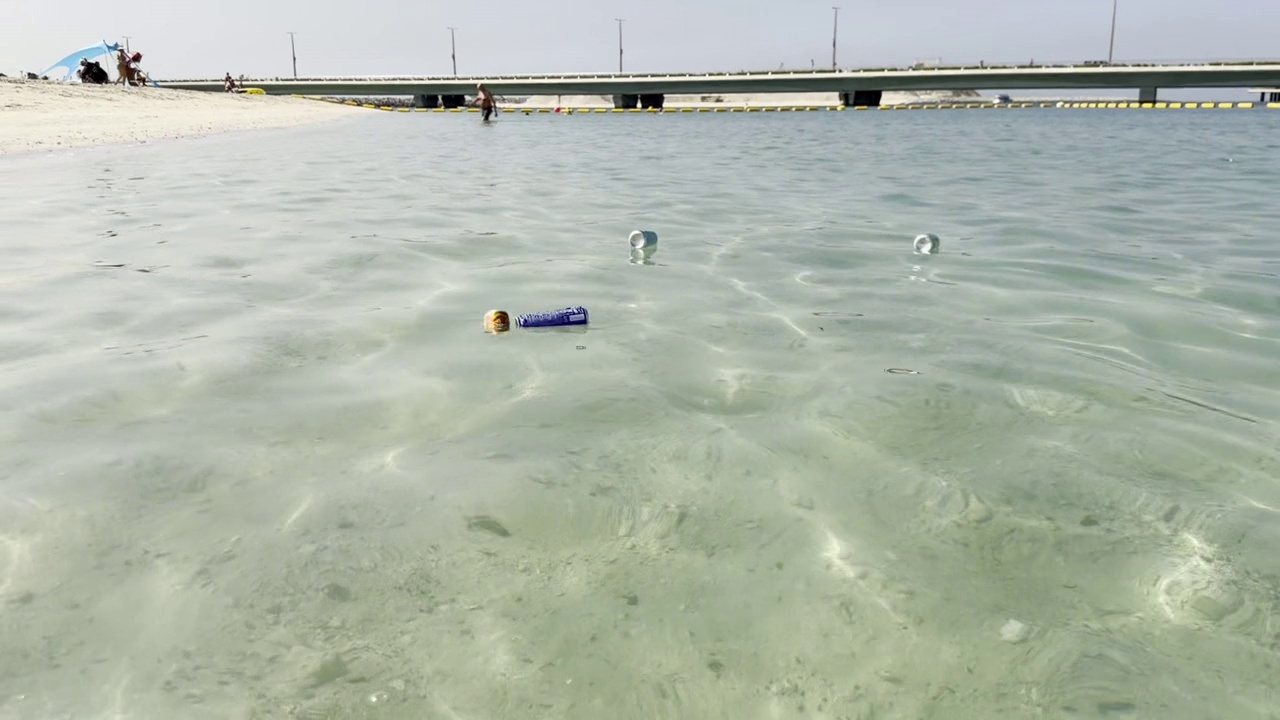debris: (507, 298, 594, 338), (475, 304, 516, 346), (909, 229, 945, 256), (626, 229, 661, 251)
